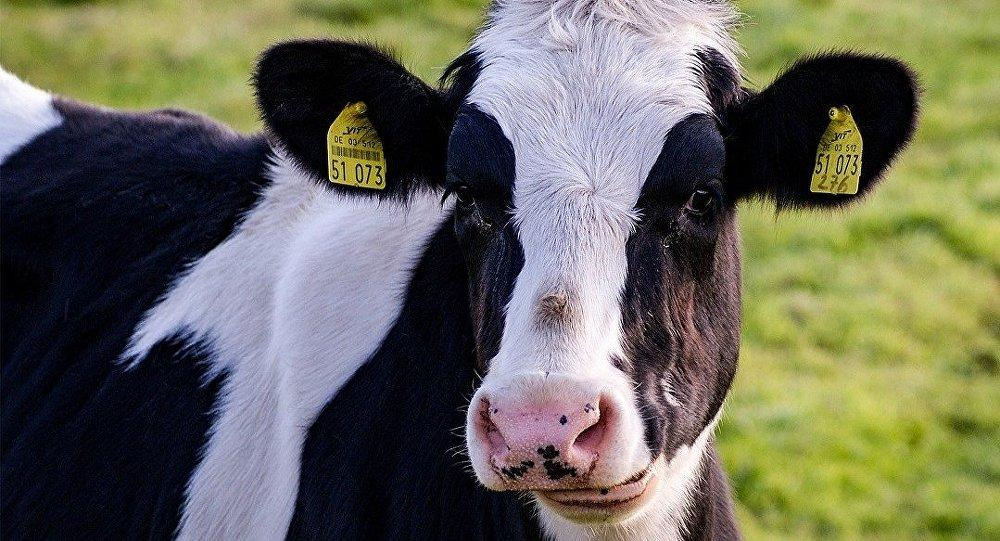muzzles: (450, 364, 705, 525)
